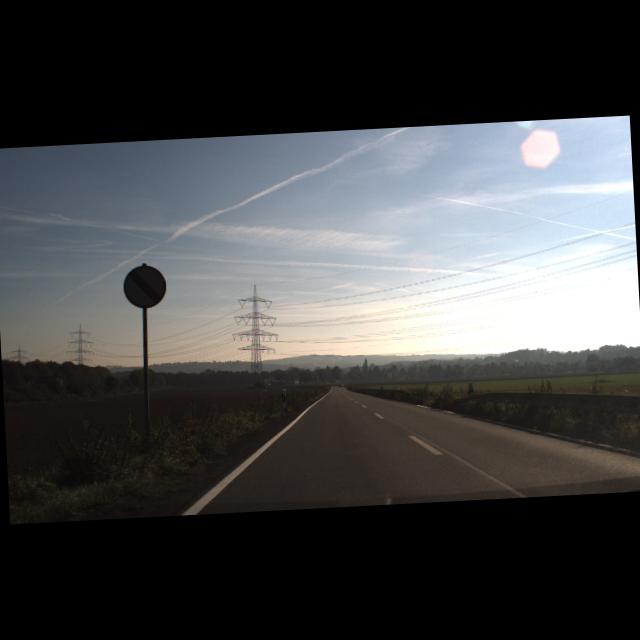other: (122, 264, 168, 310)
